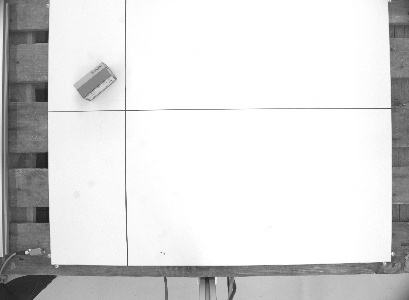b3: (70, 59, 117, 102)
